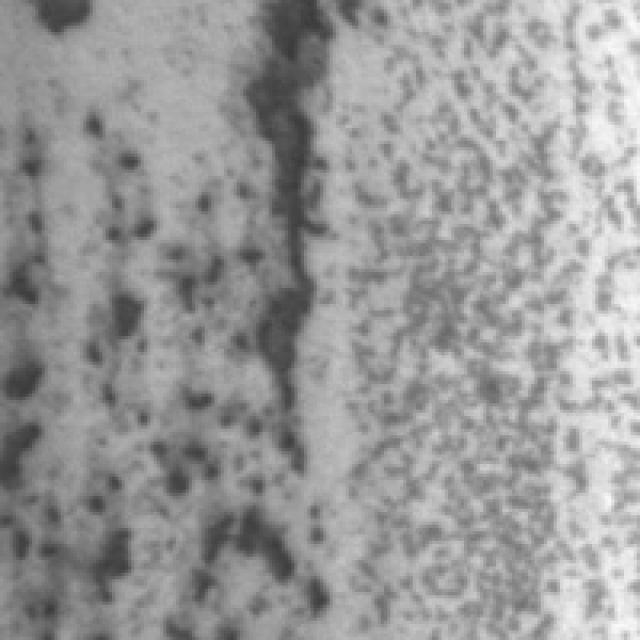patches: (250, 0, 336, 403)
pitted_surface: (346, 0, 640, 630), (7, 112, 278, 512)
